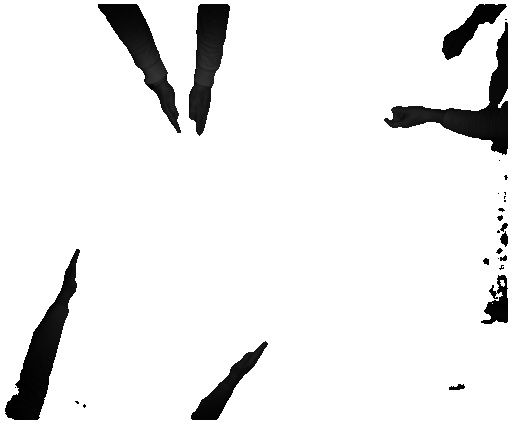fist: (440, 27, 468, 63)
hand: (384, 104, 430, 127)
spine: (231, 336, 271, 388), (144, 86, 184, 135), (188, 86, 215, 135), (60, 248, 79, 305)
